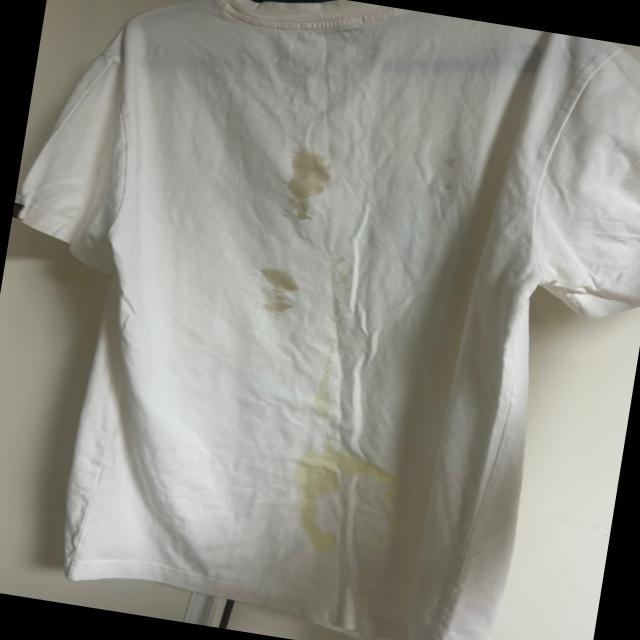stain: (279, 457, 357, 560), (260, 138, 348, 227), (323, 439, 399, 501), (247, 262, 298, 326), (304, 366, 351, 428), (434, 152, 471, 208), (308, 258, 356, 300)
